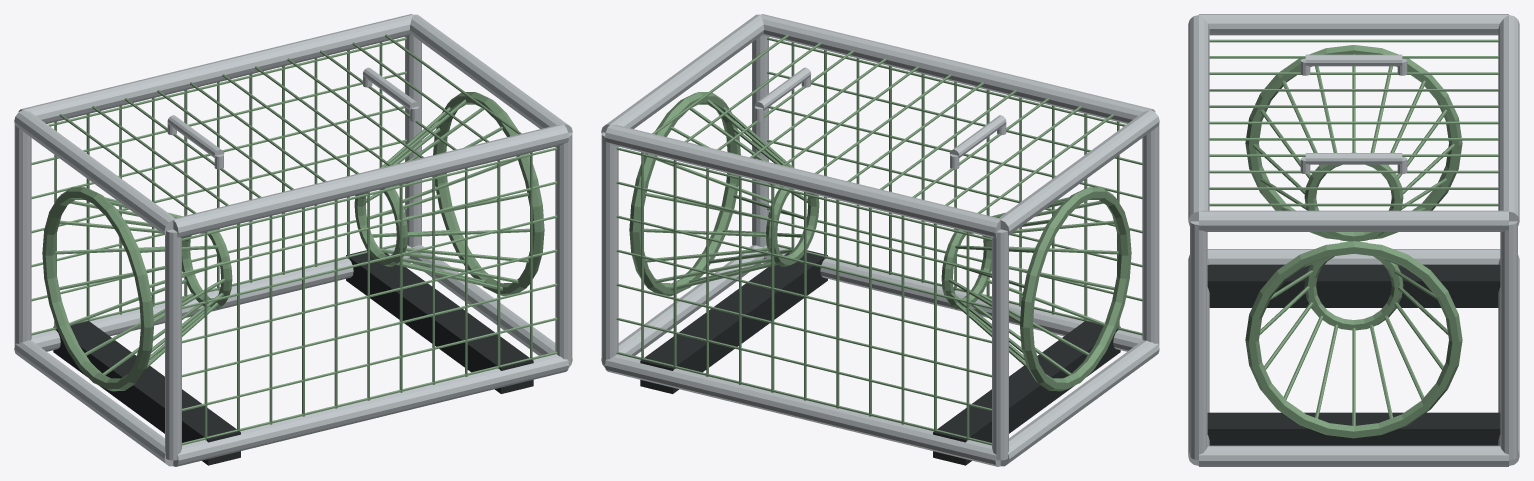
The model's file is crab_creel.glb.
The picture shows the model from 3 angles, left to right: view 1: azimuth 30°, elevation 25°; view 2: azimuth 150°, elevation 25°; view 3: azimuth 270°, elevation 25°; orthographic projection. The views are drawn at different scales.
Parts seen in each view (by area): view 1: Frame.004, Frame.005, Frame, Ballast runner.001, Entrance hoop, Ballast runner, Entrance hoop.001, Frame.001, Frame.006, Upright.002, Upright, Upright.001 (+36 smaller); view 2: Frame.005, Frame.004, Frame.001, Ballast runner.001, Entrance hoop, Ballast runner, Entrance hoop.001, Frame, Frame.006, Upright.003, Upright.001, Upright (+36 smaller); view 3: Ballast runner, Ballast runner.001, Entrance hoop.001, Frame.007, Frame.003, Frame.006, Entrance hoop, Frame.004, Frame.005, Upright.002, Upright.003, Frame.002 (+24 smaller).
Boxes of the visible parts, x1=… form: Frame.004: x1=173, y1=124, x2=568, y2=237; Frame.005: x1=18, y1=14, x2=413, y2=123; Frame: x1=173, y1=354, x2=568, y2=466; Ballast runner.001: x1=346, y1=250, x2=533, y2=393; Entrance hoop: x1=42, y1=187, x2=153, y2=391; Ballast runner: x1=53, y1=321, x2=240, y2=465; Entrance hoop.001: x1=433, y1=92, x2=544, y2=295; Frame.001: x1=31, y1=245, x2=411, y2=351; Frame.006: x1=14, y1=110, x2=174, y2=235; Upright.002: x1=555, y1=132, x2=572, y2=364; Upright: x1=165, y1=229, x2=181, y2=460; Upright.001: x1=14, y1=124, x2=31, y2=345; Frame.005: x1=605, y1=124, x2=1000, y2=237; Frame.004: x1=760, y1=14, x2=1155, y2=123; Frame.001: x1=605, y1=354, x2=1000, y2=466; Ballast runner.001: x1=640, y1=250, x2=827, y2=393; Entrance hoop: x1=1020, y1=187, x2=1131, y2=391; Ballast runner: x1=933, y1=321, x2=1120, y2=465; Entrance hoop.001: x1=629, y1=92, x2=740, y2=295; Frame: x1=762, y1=245, x2=1142, y2=351; Frame.006: x1=999, y1=110, x2=1159, y2=235; Upright.003: x1=601, y1=132, x2=618, y2=364; Upright.001: x1=992, y1=229, x2=1008, y2=460; Upright: x1=1142, y1=124, x2=1159, y2=345; Ballast runner: x1=1207, y1=265, x2=1500, y2=307; Ballast runner.001: x1=1207, y1=412, x2=1500, y2=445; Entrance hoop.001: x1=1245, y1=241, x2=1462, y2=438; Frame.007: x1=1199, y1=210, x2=1508, y2=231; Frame.003: x1=1199, y1=445, x2=1508, y2=466; Frame.006: x1=1199, y1=14, x2=1508, y2=35; Entrance hoop: x1=1245, y1=45, x2=1462, y2=239; Frame.004: x1=1188, y1=15, x2=1209, y2=225; Frame.005: x1=1498, y1=15, x2=1519, y2=225; Upright.002: x1=1190, y1=221, x2=1207, y2=459; Upright.003: x1=1500, y1=221, x2=1517, y2=459; Frame.002: x1=1207, y1=249, x2=1500, y2=264.
Bounding box in the file's own units: 1 × 0.612 × 0.684.
